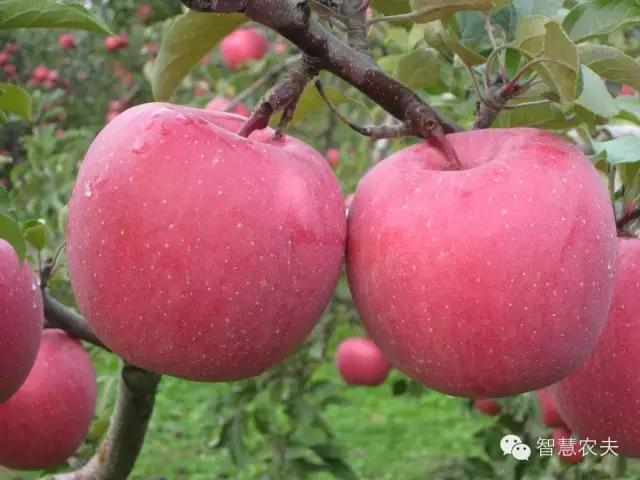apple: (63, 104, 348, 385), (341, 130, 624, 400), (548, 234, 640, 461), (1, 329, 98, 472), (1, 236, 42, 395)
